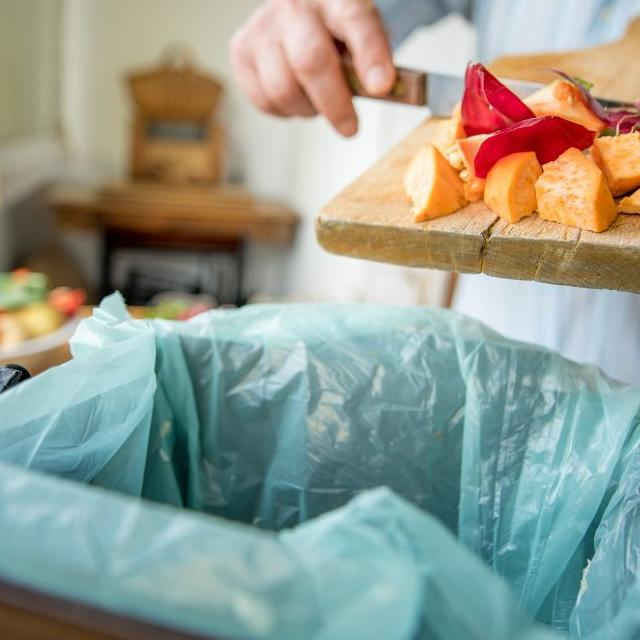food_waste: (454, 104, 640, 228), (437, 60, 526, 130), (394, 143, 464, 226), (599, 101, 640, 186)
